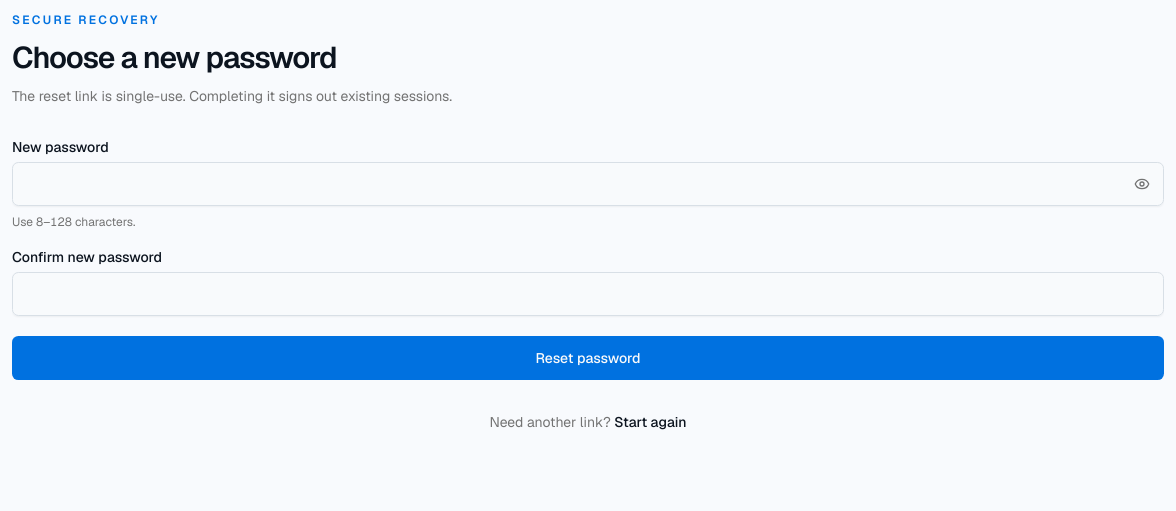
authentication recovery screens › requires matching passwords and completes a single-use reset
This screenshot has width=1176, height=511.
Type "New-S3curePass!" into the password field labelled "New password" at (588, 184), box [12, 162, 1164, 206]
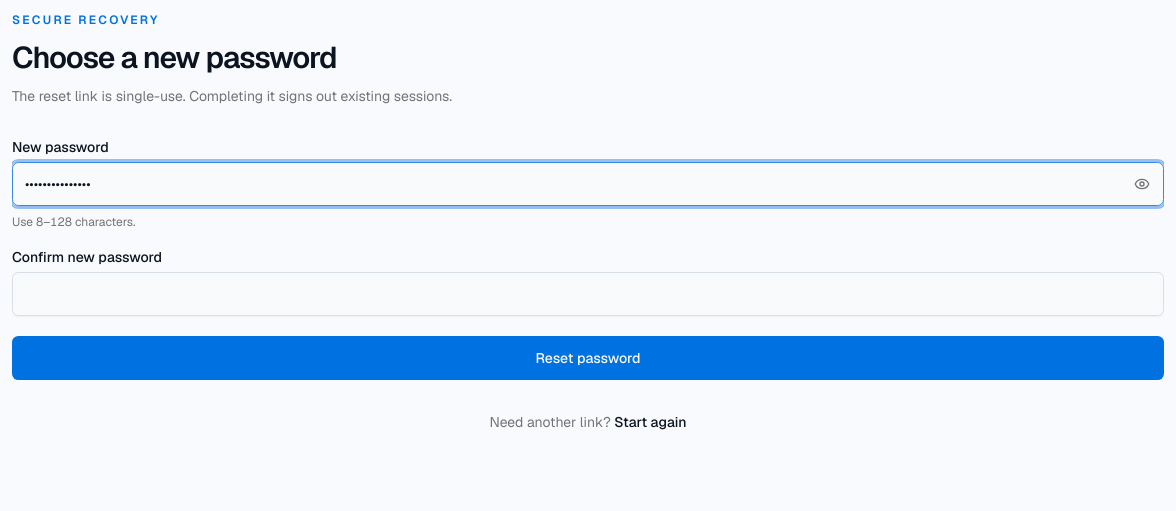
Type "different" into the password field labelled "Confirm new password" at (588, 294), box [12, 272, 1164, 316]
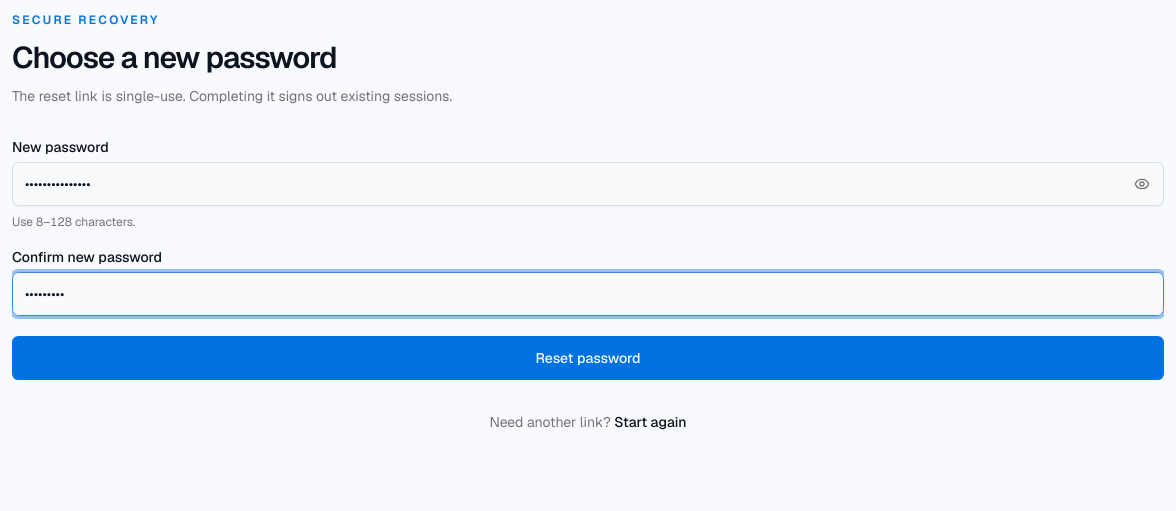
Click the button "Reset password" at (588, 358), box [12, 336, 1164, 380]
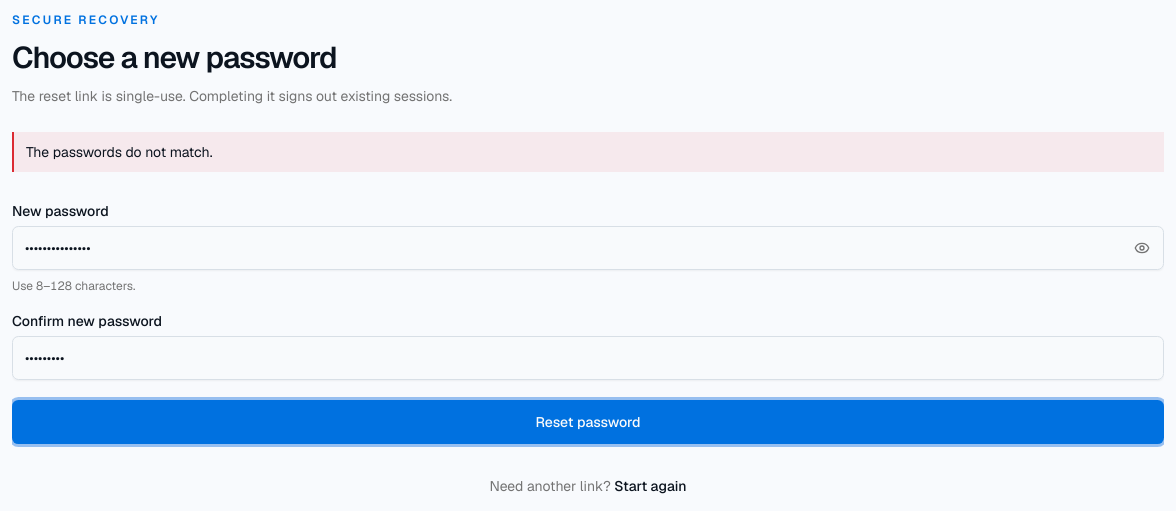
Result: the message shows "do not match" at [26, 143, 213, 161]
Type "New-S3curePass!" into the password field labelled "Confirm new password" at (588, 358), box [12, 336, 1164, 380]
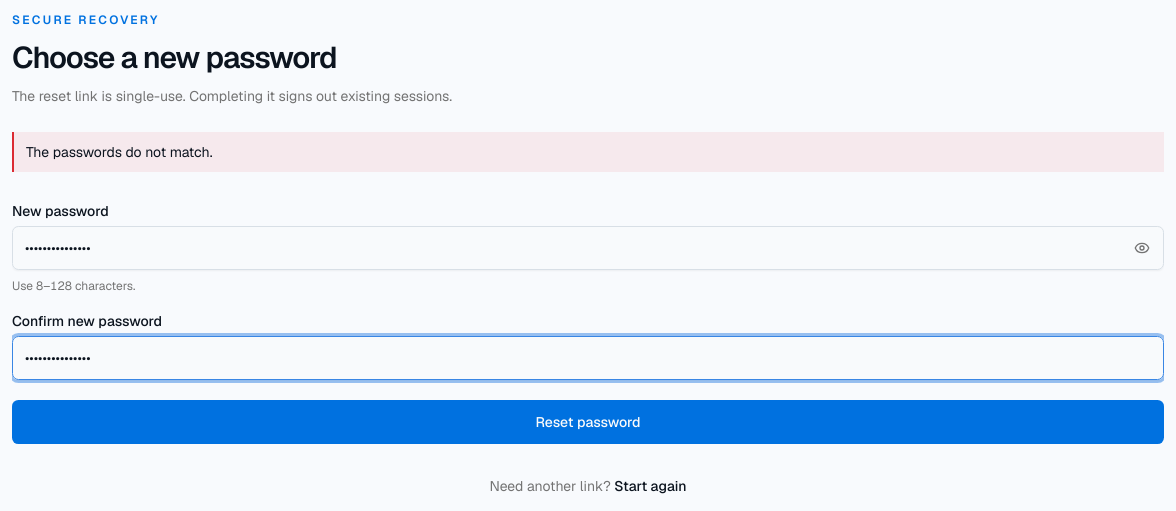
Click the button "Reset password" at (588, 422), box [12, 400, 1164, 444]
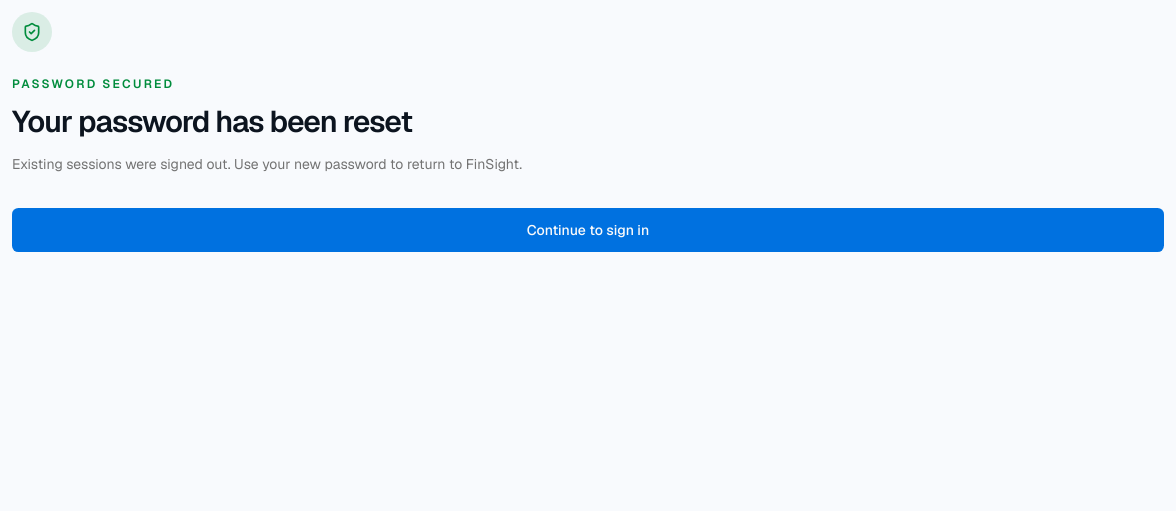
Result: the heading "Your password has been reset" is shown at [12, 102, 412, 141]
